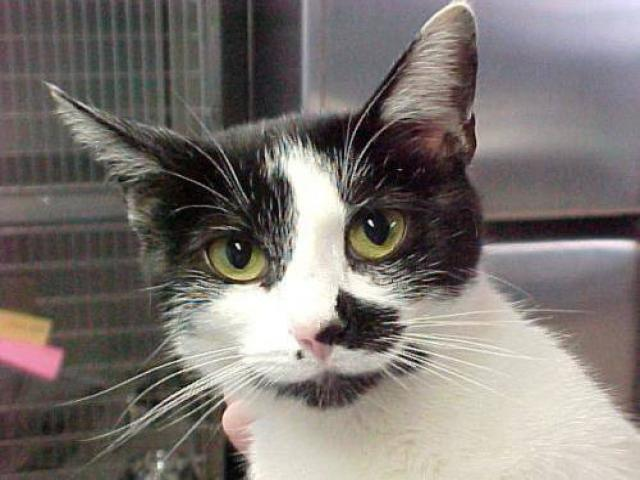cat: (45, 2, 613, 476)
